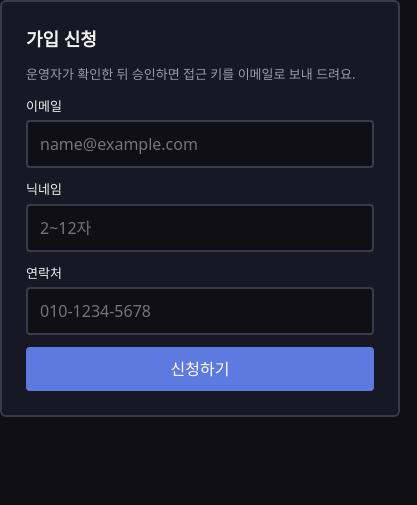
Test: SignupForm › 사전 검증에 걸리면 보내지 않고 필드마다 고칠 점을 알려 준다
Click the button "신청하기".
click(200, 369)  # box [26, 347, 374, 391]
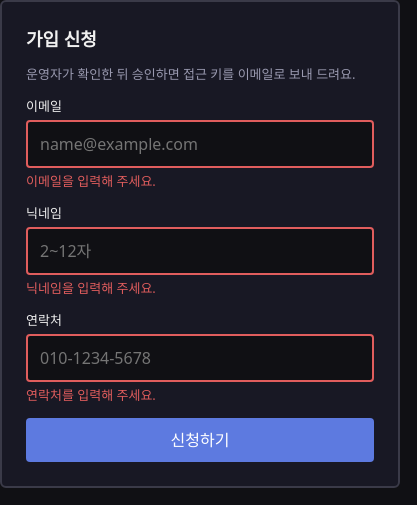
Expected: the text "이메일을 입력해 주세요." is shown, [26, 172, 156, 190]
Type "nope" into the field labelled "이메일".
click(200, 144); type("nope")  # box [26, 120, 374, 168]
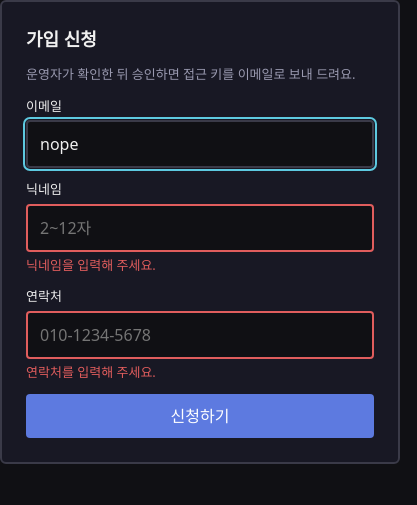
Type "가" into the field labelled "닉네임".
click(200, 228); type("가")  # box [26, 204, 374, 252]
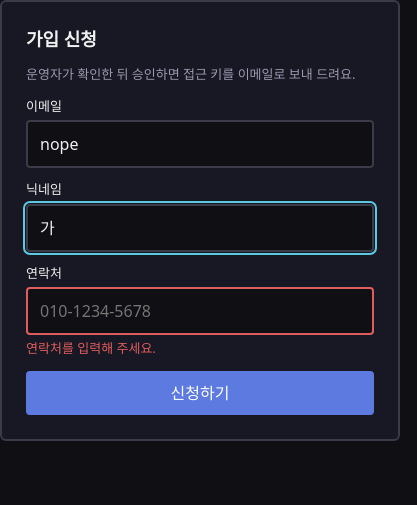
Type "12" into the field labelled "연락처".
click(200, 311); type("12")  # box [26, 287, 374, 335]
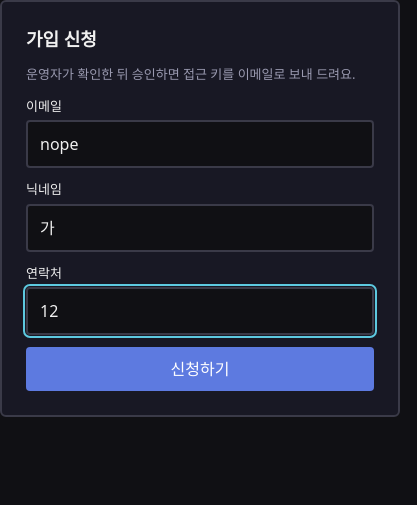
Click the button "신청하기".
click(200, 369)  # box [26, 347, 374, 391]
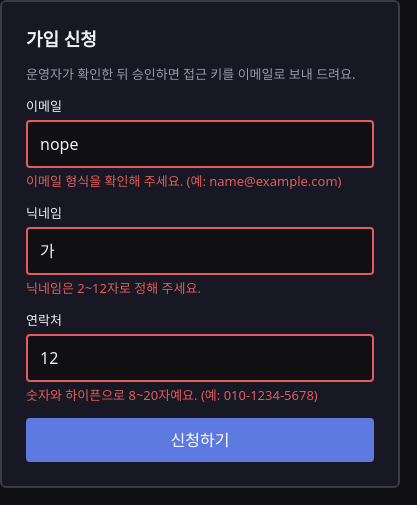
Expected: the text "이메일 형식을 확인해 주세요. (예: name@example.com)" is shown, [26, 172, 374, 192]
Expected: the text "닉네임은 2~12자로 정해 주세요." is shown, [26, 279, 201, 297]
Expected: the text "숫자와 하이픈으로 8~20자예요. (예: 010-1234-5678)" is shown, [26, 386, 318, 404]
